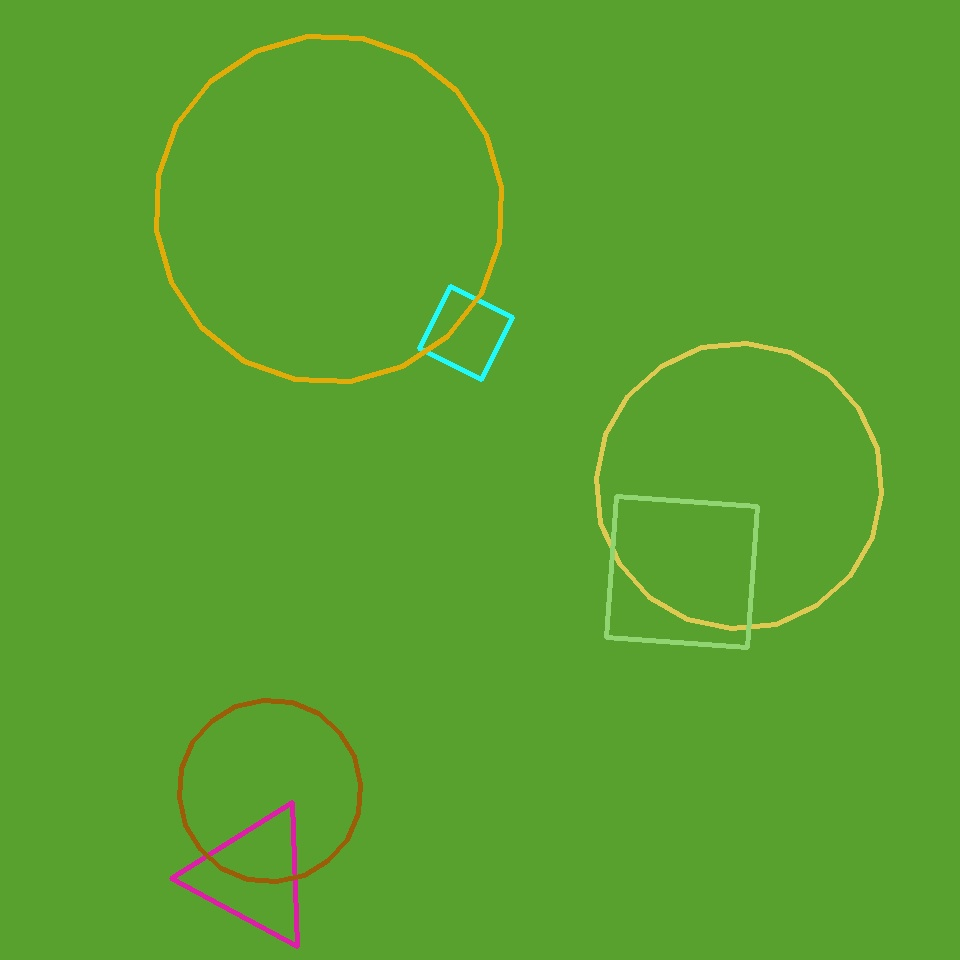circle: (191, 804, 317, 948)
square: (606, 496, 758, 648), (420, 286, 512, 380)
triangle: (156, 36, 502, 382), (596, 344, 882, 628), (180, 700, 360, 882)
